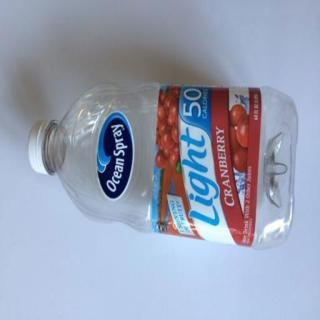Plastic-bottle: (27, 80, 303, 252)
